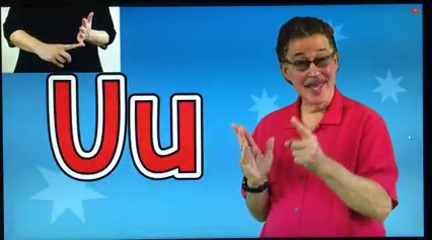U: (36, 7, 101, 70)
